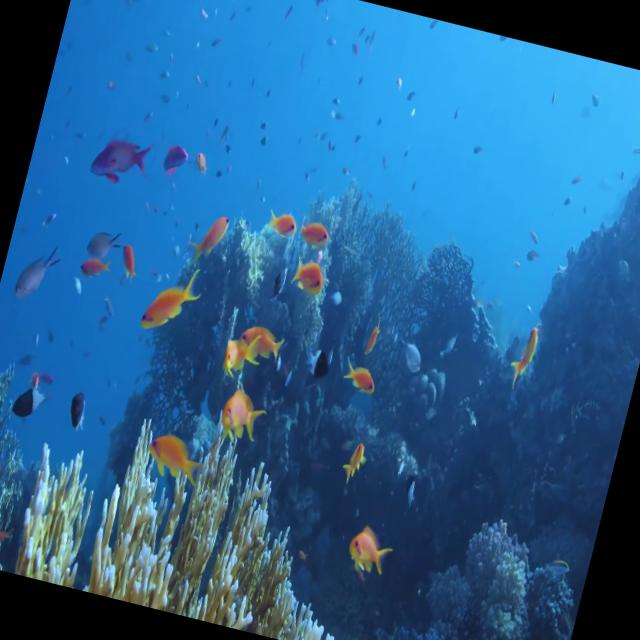fish: (135, 259, 211, 347), (132, 426, 216, 504), (77, 116, 158, 196), (212, 376, 280, 454), (334, 508, 400, 588), (492, 314, 555, 394), (7, 230, 66, 314), (236, 307, 294, 378), (188, 196, 237, 271), (8, 372, 54, 431), (335, 427, 374, 495), (386, 325, 430, 385), (285, 252, 332, 308), (295, 200, 344, 253), (338, 351, 386, 402), (262, 196, 308, 243), (80, 218, 124, 266), (217, 321, 254, 376), (58, 384, 94, 438), (111, 234, 143, 286), (156, 136, 192, 178), (358, 310, 389, 354), (78, 250, 113, 288)
